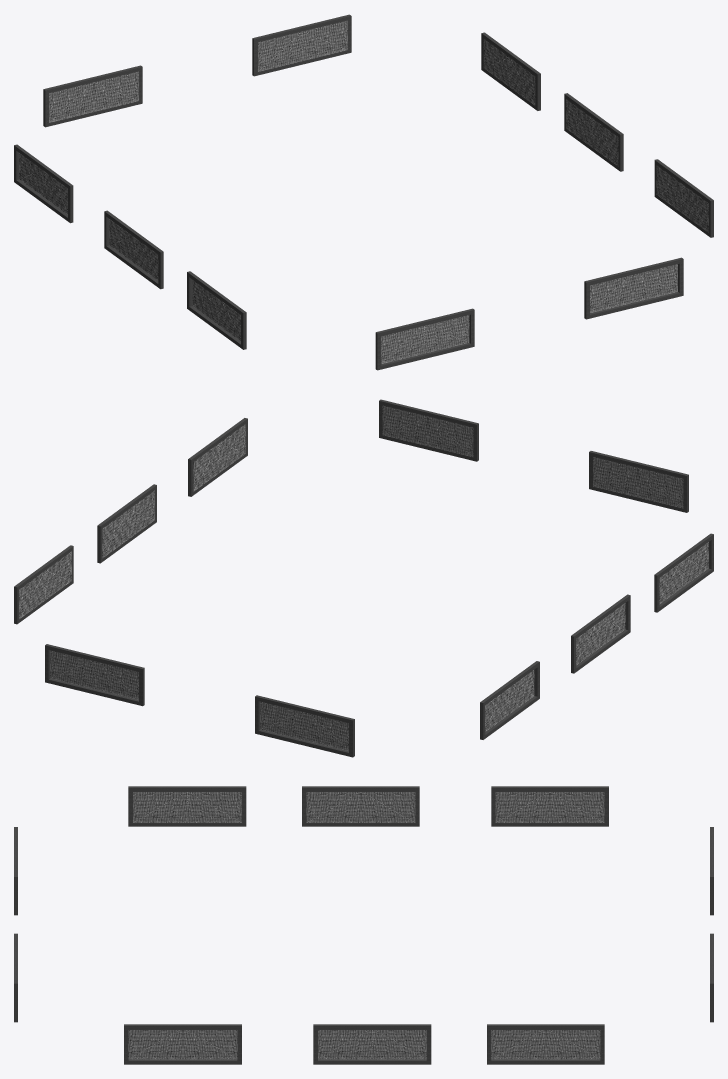
File: coal_windows.obj
3 views of the same model, one above another, from view 1: azimuth 30°, elevation 25°; view 2: azimuth 150°, elevation 25°; view 3: azimuth 270°, elevation 25° (orthographic). The views are drawn at different scales.
Visible parts, largest first — view 1: Cube.004_Cube.008; view 2: Cube.004_Cube.008; view 3: Cube.004_Cube.008.
Boxes of the visible parts, left/top/right/bottom form: Cube.004_Cube.008: left=14, top=14, right=713, bottom=370; Cube.004_Cube.008: left=14, top=399, right=713, bottom=757; Cube.004_Cube.008: left=14, top=786, right=713, bottom=1064.
Bounding box in the file's own units: 13.38 × 1.01 × 16.52.
Materials: 1 (1 with a texture image).
